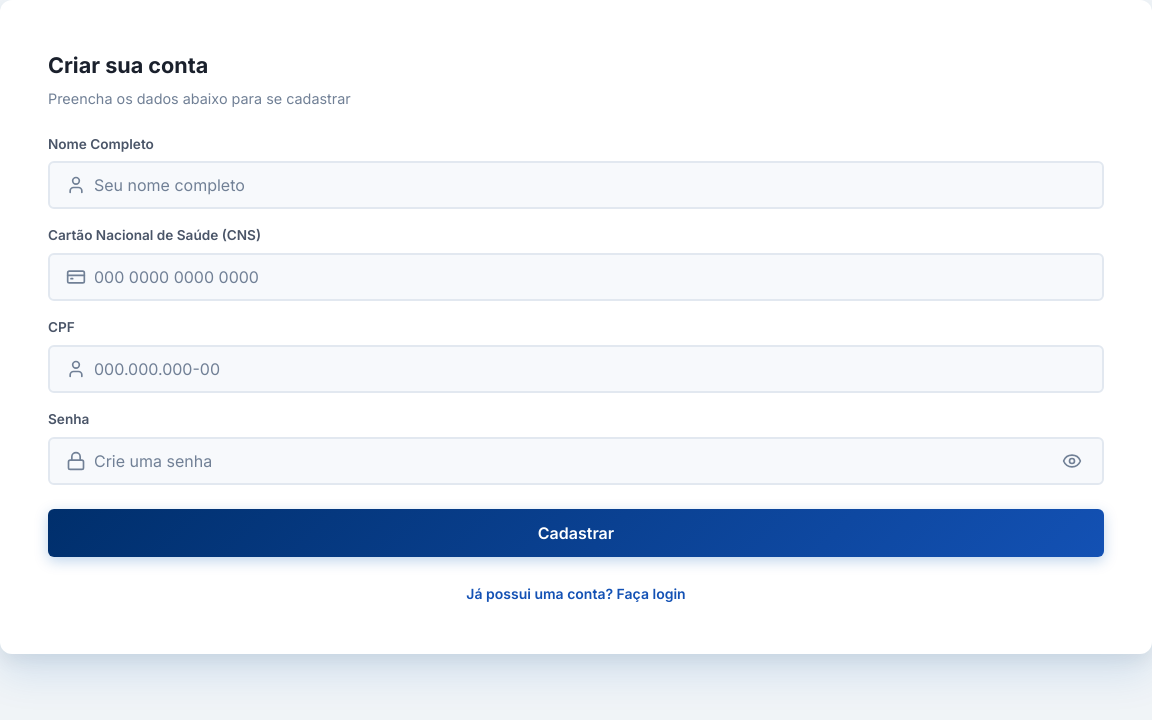
Test: 📝 RegisterForm — Validação de Formulário de Cadastro › TC-R02 | Deve bloquear submissão com campos obrigatórios vazios (Zod)
Click the button "Cadastrar" at (576, 533), box x1=48 y1=509 x2=1104 y2=557
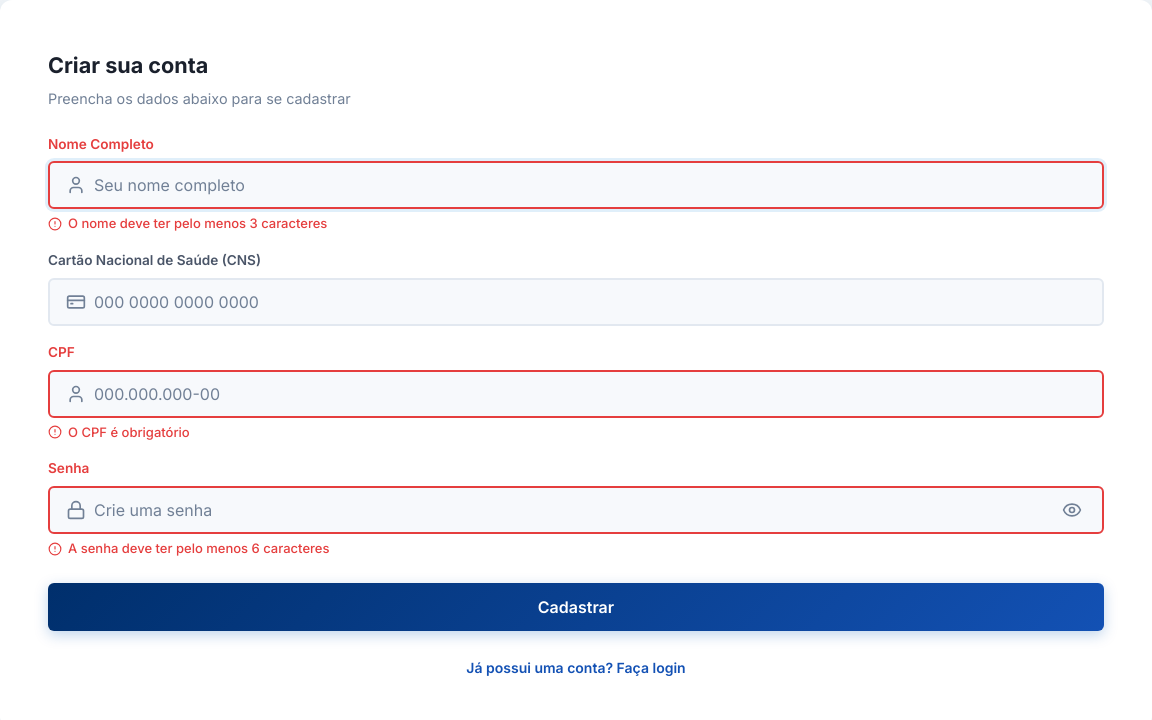
Expected: the text "O nome deve ter pelo menos 3 caracteres" is shown, x1=48 y1=215 x2=327 y2=231
Expected: the text "O CPF é obrigatório" is shown, x1=48 y1=424 x2=190 y2=440
Expected: the text "A senha deve ter pelo menos 6 caracteres" is shown, x1=48 y1=540 x2=330 y2=556
